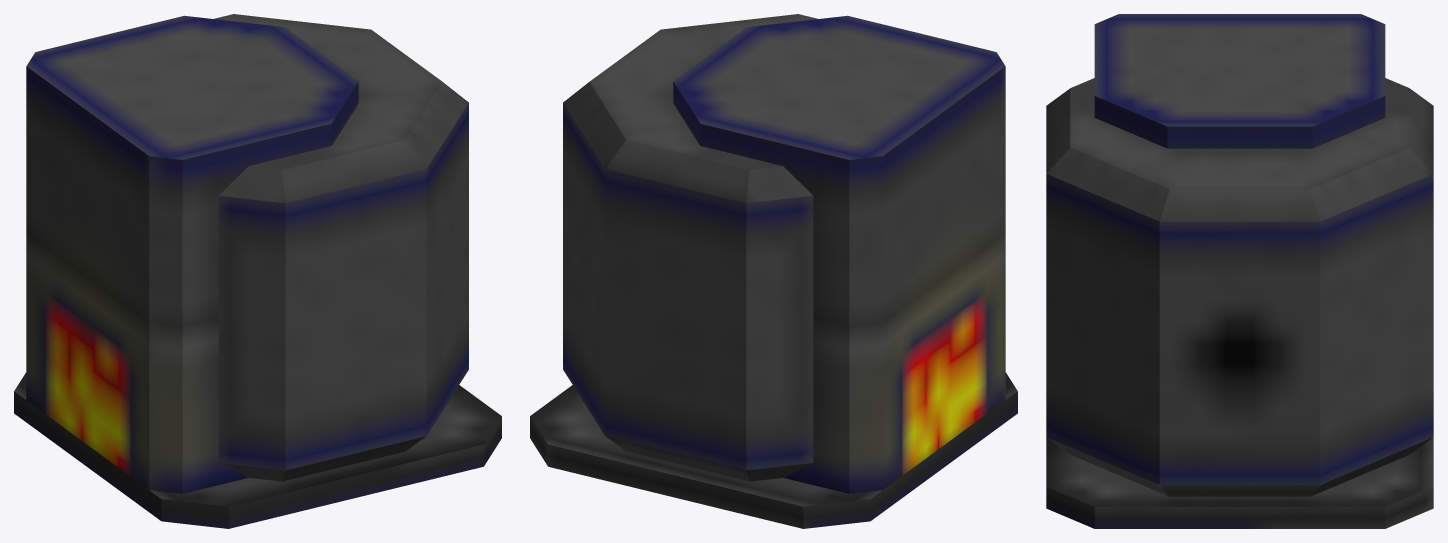
File: advanced_air_compressor_active.obj
The picture shows the model from 3 angles, left to right: view 1: azimuth 30°, elevation 25°; view 2: azimuth 150°, elevation 25°; view 3: azimuth 270°, elevation 25°; orthographic projection.
Parts seen in each view (by area): view 1: Group_002, Group_001, Group_003; view 2: Group_002, Group_001, Group_003; view 3: Group_001, Group_002, Group_003.
Boxes of the visible parts, x1=… form: Group_002: x1=26, y1=15, x2=358, y2=493; Group_001: x1=214, y1=14, x2=468, y2=481; Group_003: x1=14, y1=372, x2=501, y2=528; Group_002: x1=673, y1=15, x2=1005, y2=493; Group_001: x1=563, y1=14, x2=817, y2=481; Group_003: x1=530, y1=372, x2=1017, y2=528; Group_001: x1=1046, y1=78, x2=1433, y2=496; Group_002: x1=1094, y1=14, x2=1385, y2=148; Group_003: x1=1046, y1=437, x2=1433, y2=528.
Size of the model in its own units: 16 by 16 by 16.
